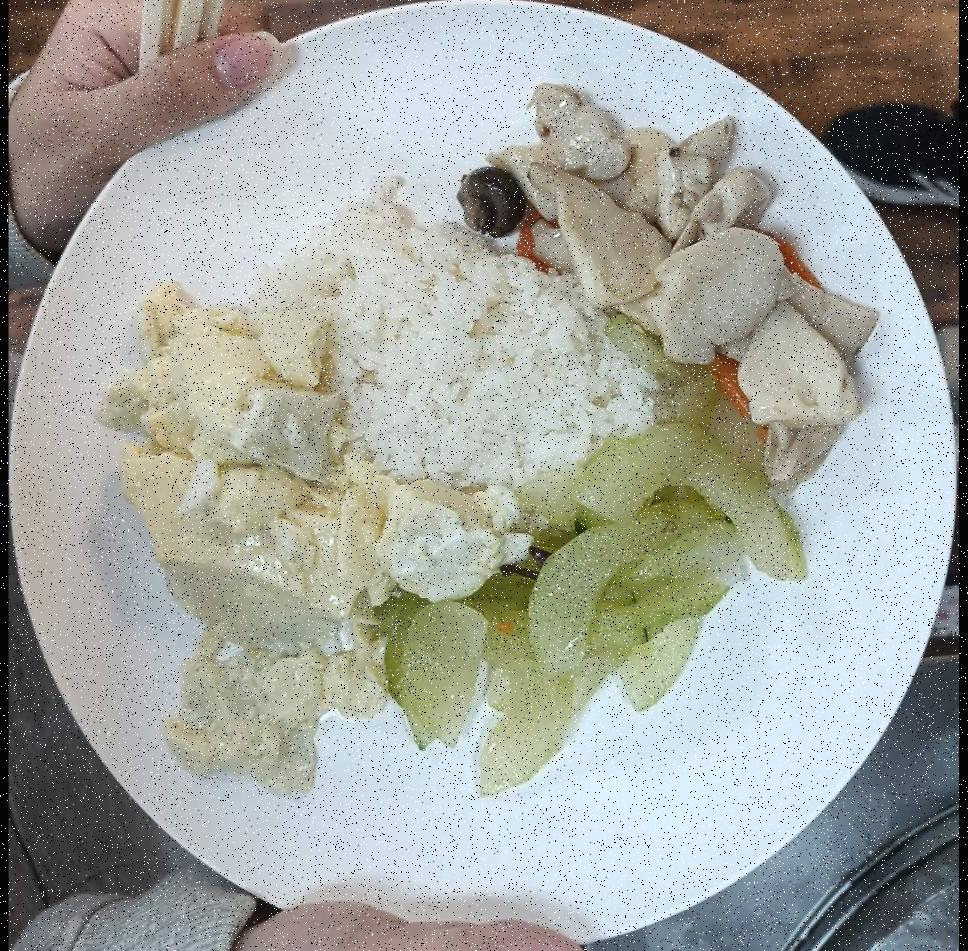plate: (22, 0, 959, 951)
side dish: (98, 290, 520, 792), (387, 401, 800, 792), (463, 72, 880, 427)
white rice: (277, 178, 661, 489)
